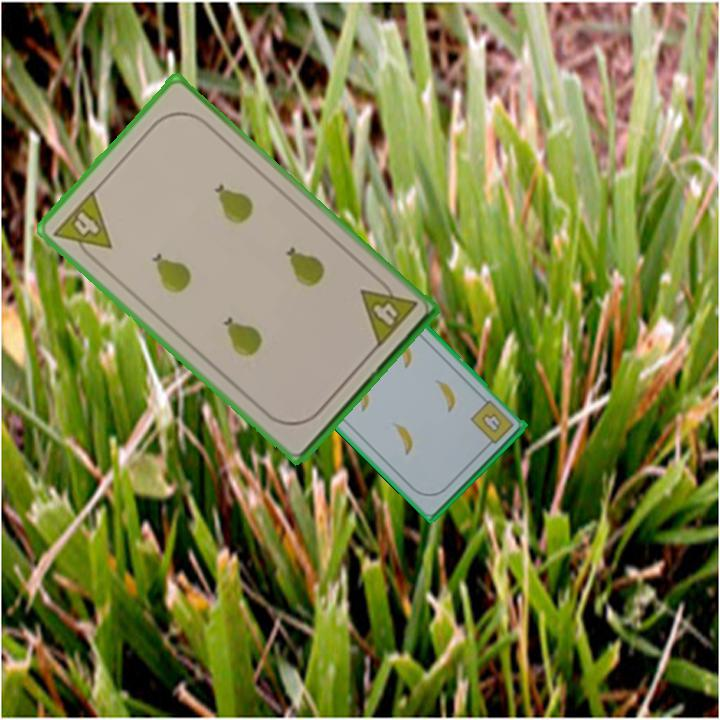4b: (466, 396, 517, 452)
4p: (49, 186, 115, 267), (356, 272, 421, 351)
